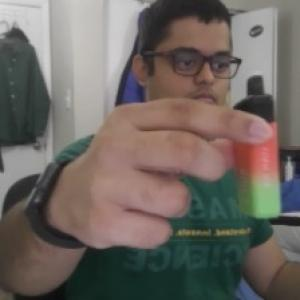Swift-E-Ciggirate: (229, 68, 287, 228)
